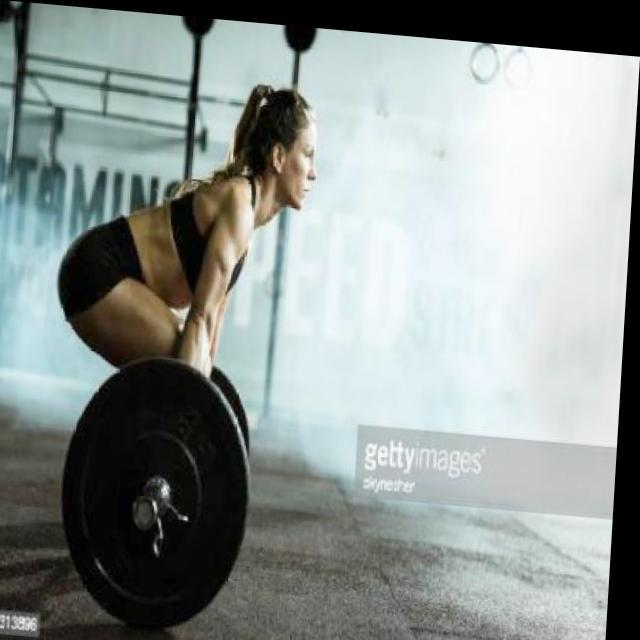barbell: (54, 344, 264, 640)
